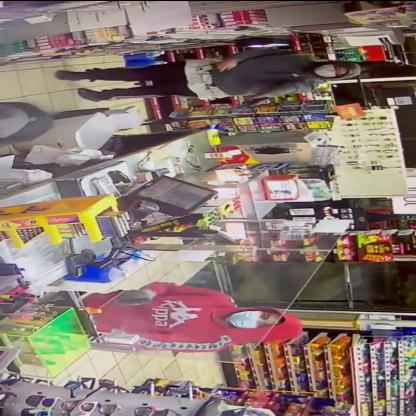Pistol: (107, 289, 165, 309), (228, 90, 275, 113)
